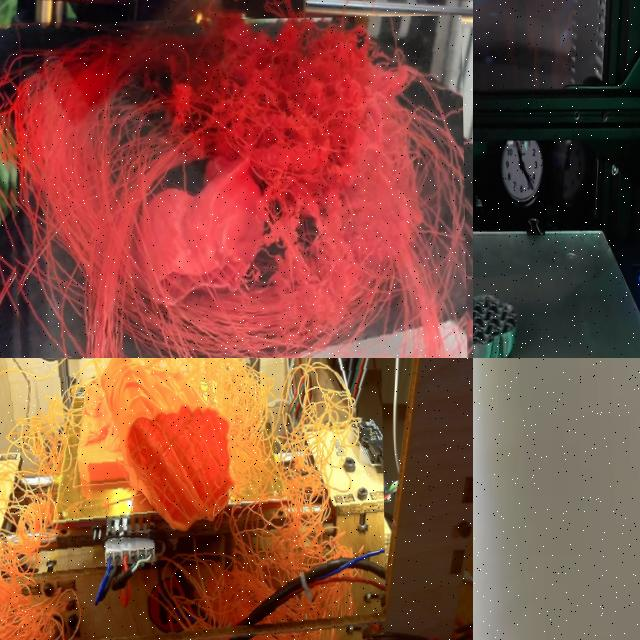spaghetti: (0, 15, 469, 358), (0, 358, 386, 640)
